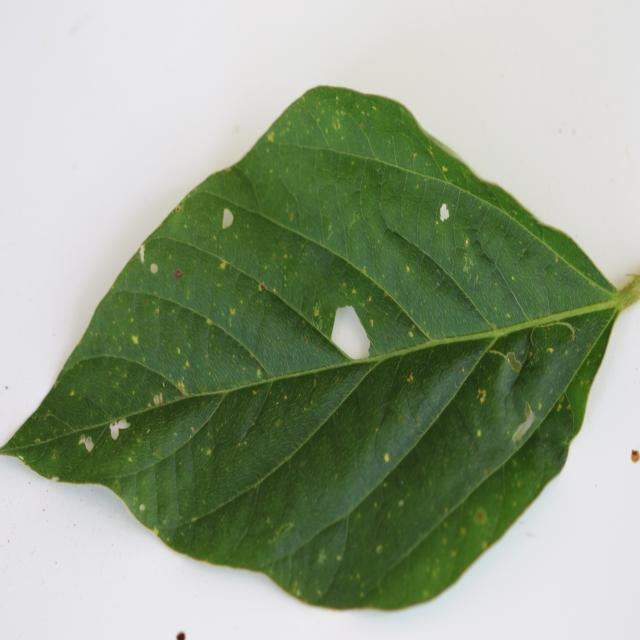Soybean: (0, 86, 640, 614)
downey_mildew: (172, 322, 318, 500), (365, 434, 464, 576), (142, 209, 252, 328), (470, 341, 539, 455), (424, 182, 484, 272), (246, 231, 308, 311), (97, 299, 160, 374), (80, 400, 133, 454), (342, 289, 384, 346), (140, 240, 166, 282), (151, 388, 167, 407)
